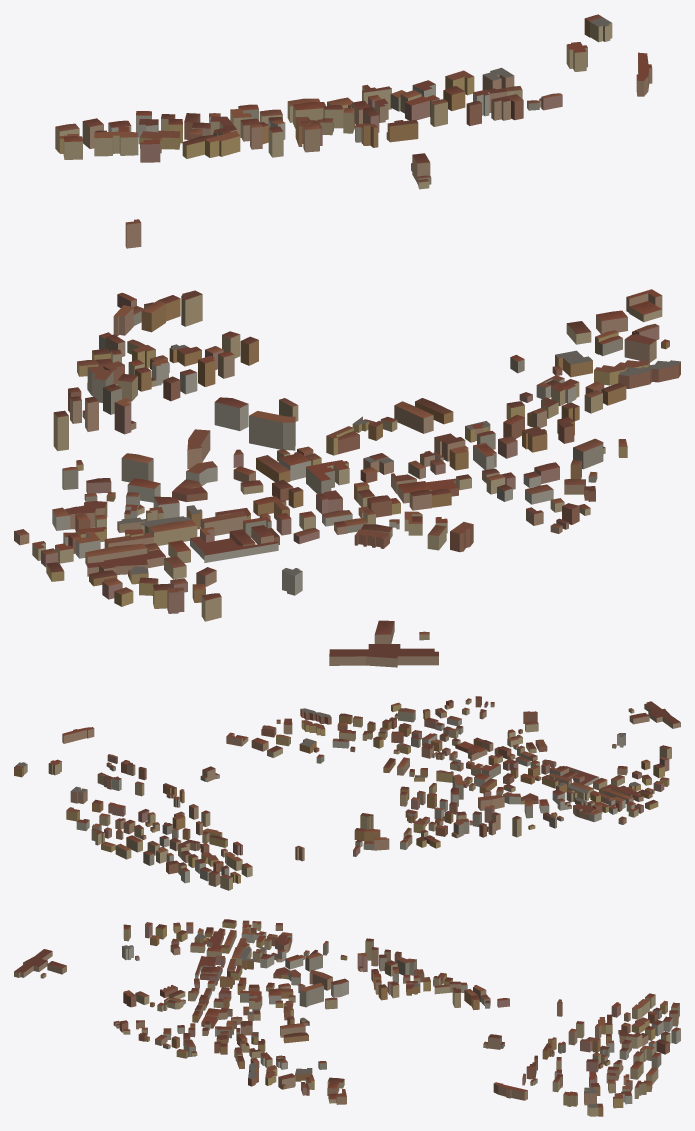
The model's file is SM_Fondale_Citta_Colle_06.fbx.
3 renders of one model, top to bottom at view 1: azimuth 30°, elevation 25°; view 2: azimuth 150°, elevation 25°; view 3: azimuth 270°, elevation 25°, orthographic. The views are drawn at different scales.
Visible parts, largest first — view 1: SM_Fondale_Citta_Colle_06; view 2: SM_Fondale_Citta_Colle_06; view 3: SM_Fondale_Citta_Colle_06.
Part boxes in pixels (<box>): SM_Fondale_Citta_Colle_06: <box>14,14,680,667</box>; SM_Fondale_Citta_Colle_06: <box>14,696,680,890</box>; SM_Fondale_Citta_Colle_06: <box>14,919,680,1116</box>.
Size of the model in its own units: 88147 by 102277 by 11736.
